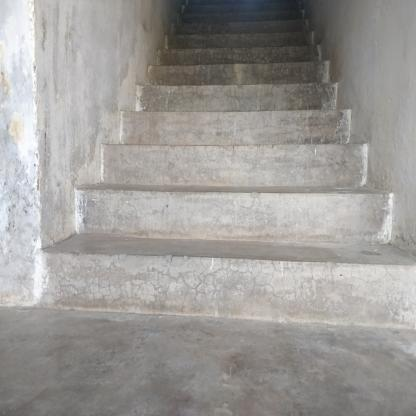stairs: (120, 112, 380, 327)
